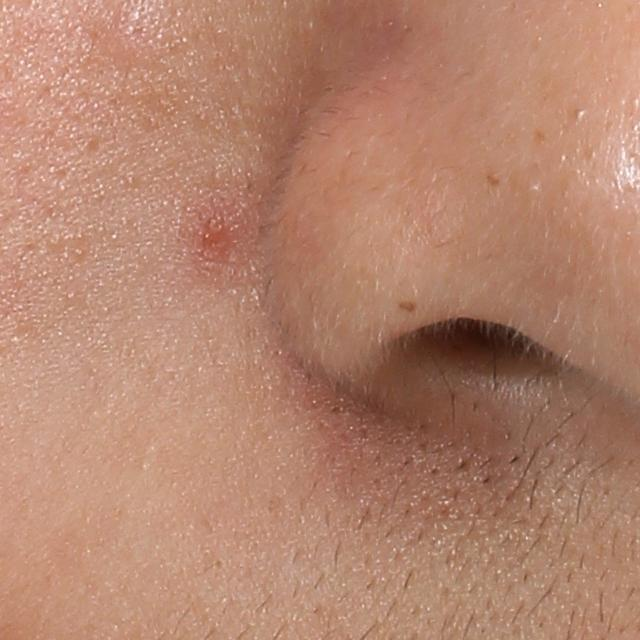nevus: (397, 299, 419, 315)
